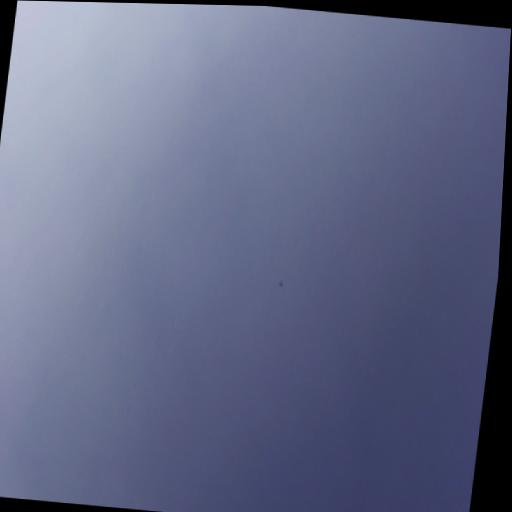drones: (277, 279, 285, 289)
